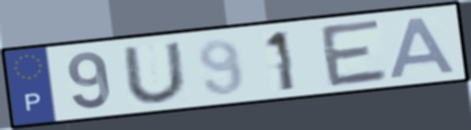1: (263, 27, 300, 93)
9: (195, 37, 247, 97), (64, 50, 113, 111)
A: (387, 14, 461, 81)
E: (316, 16, 392, 90)
U: (119, 39, 192, 105)
